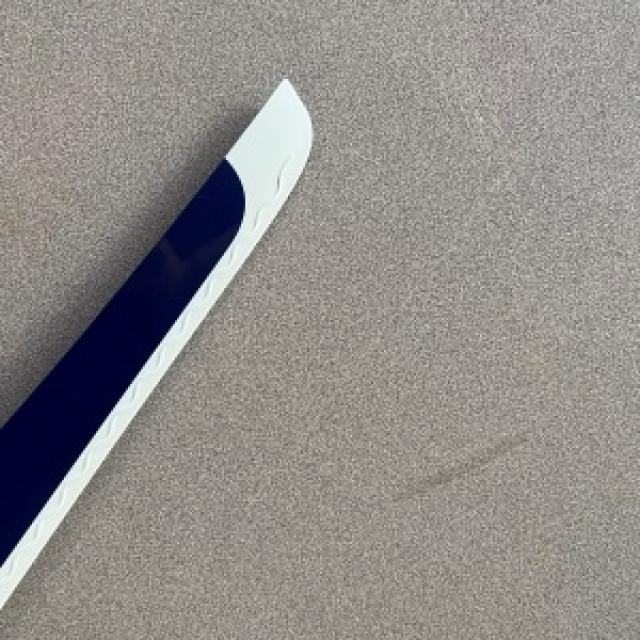healthy: (0, 77, 311, 606)
